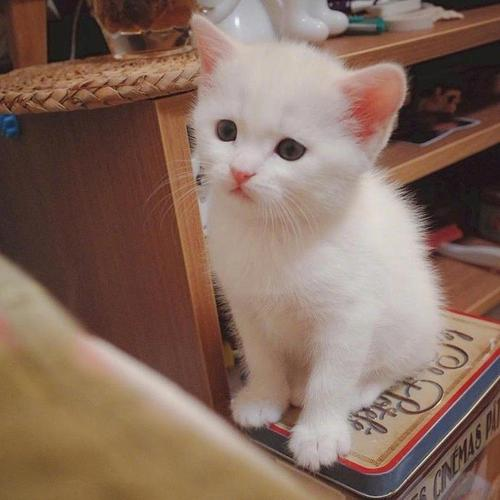cat: (167, 3, 411, 228)
